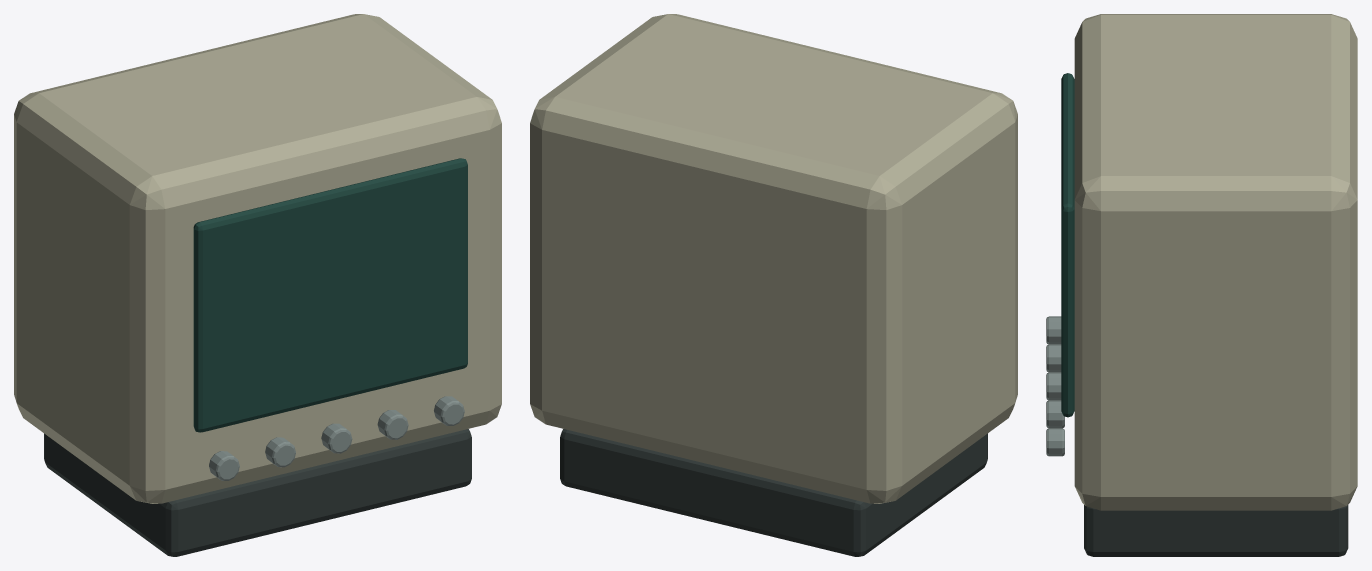
File: H_Monitor.fbx
3 views of the same model, side by side, from view 1: azimuth 30°, elevation 25°; view 2: azimuth 150°, elevation 25°; view 3: azimuth 270°, elevation 25° (orthographic).
Visible parts, largest first — view 1: H_Monitor; view 2: H_Monitor; view 3: H_Monitor.
Boxes of the visible parts, x1,y1,x2,y2 form: H_Monitor: (14,14,501,556); H_Monitor: (530,14,1017,556); H_Monitor: (1046,14,1357,556).
Bounding box in the file's own units: 0.46 × 0.455 × 0.33.
